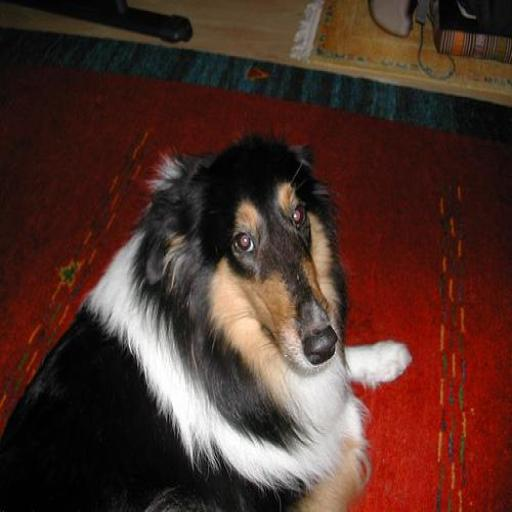dog_face: (154, 147, 352, 373)
